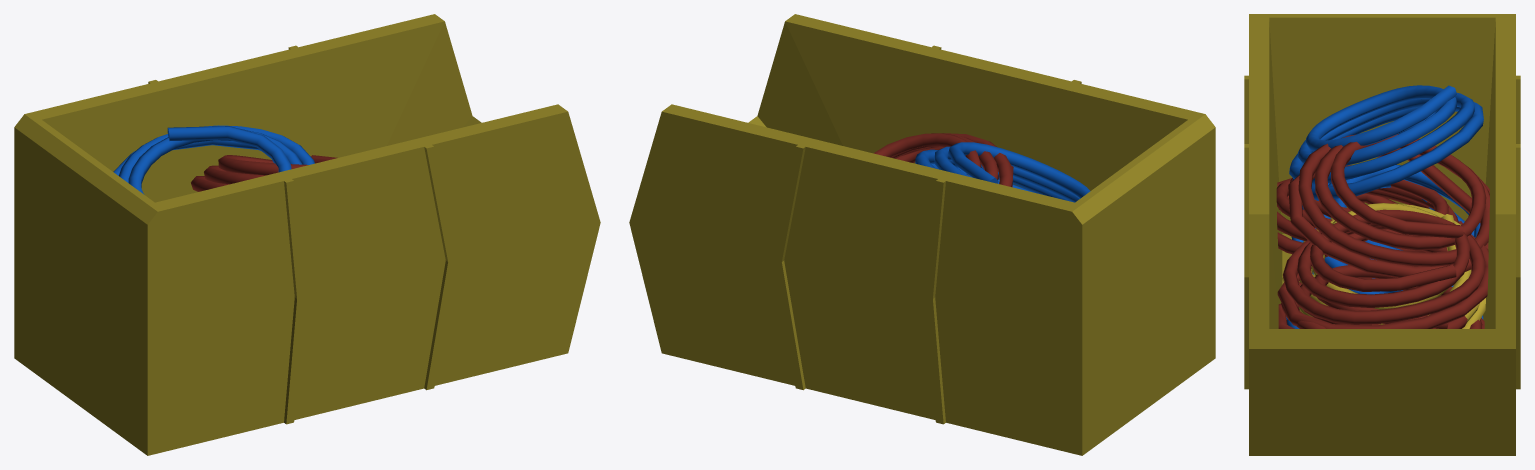
Rendered from BoxWithWires_Yellow.fbx.
The picture shows the model from 3 angles, left to right: view 1: azimuth 30°, elevation 25°; view 2: azimuth 150°, elevation 25°; view 3: azimuth 270°, elevation 25°; orthographic projection.
Visible parts, largest first — view 1: BoxWithWires_Yellow; view 2: BoxWithWires_Yellow; view 3: BoxWithWires_Yellow.
Boxes of the visible parts, x1,y1,x2,y2 form: BoxWithWires_Yellow: [14, 14, 600, 455]; BoxWithWires_Yellow: [629, 14, 1215, 455]; BoxWithWires_Yellow: [1244, 14, 1520, 455].
Bounding box in the file's own units: 392 × 200 × 207.
